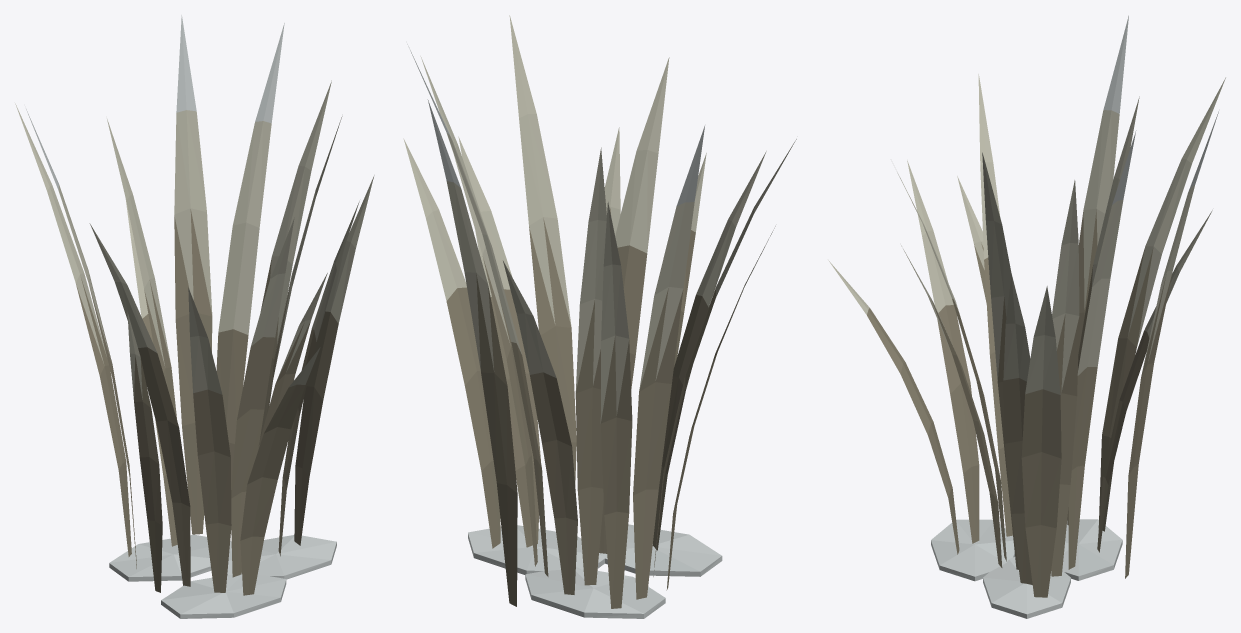
The model's file is grass_tuft_b_winter.glb.
The picture shows the model from 3 angles, left to right: view 1: azimuth 30°, elevation 25°; view 2: azimuth 150°, elevation 25°; view 3: azimuth 270°, elevation 25°; orthographic projection. The views are drawn at different scales.
Parts seen in each view (by area): view 1: geometry; view 2: geometry; view 3: geometry.
Part boxes in pixels (left/top/right/bottom): geometry: left=15, top=15, right=374, bottom=618; geometry: left=403, top=15, right=796, bottom=618; geometry: left=828, top=15, right=1225, bottom=618.
Size of the model in its own units: 0.2197 by 0.32 by 0.2352.
